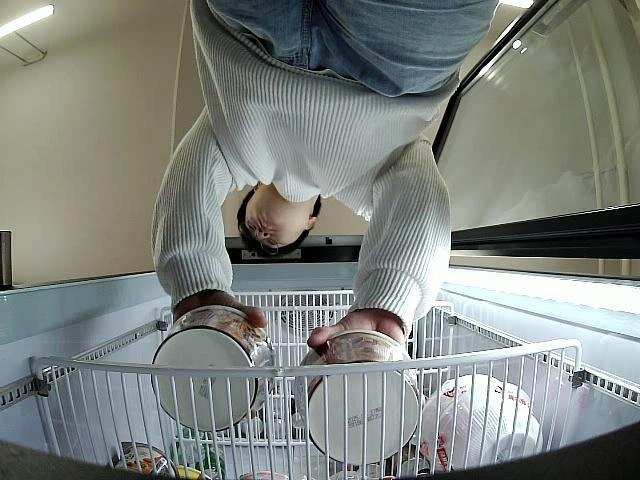05_nuguri_L: (292, 330, 421, 464), (150, 308, 280, 433)
